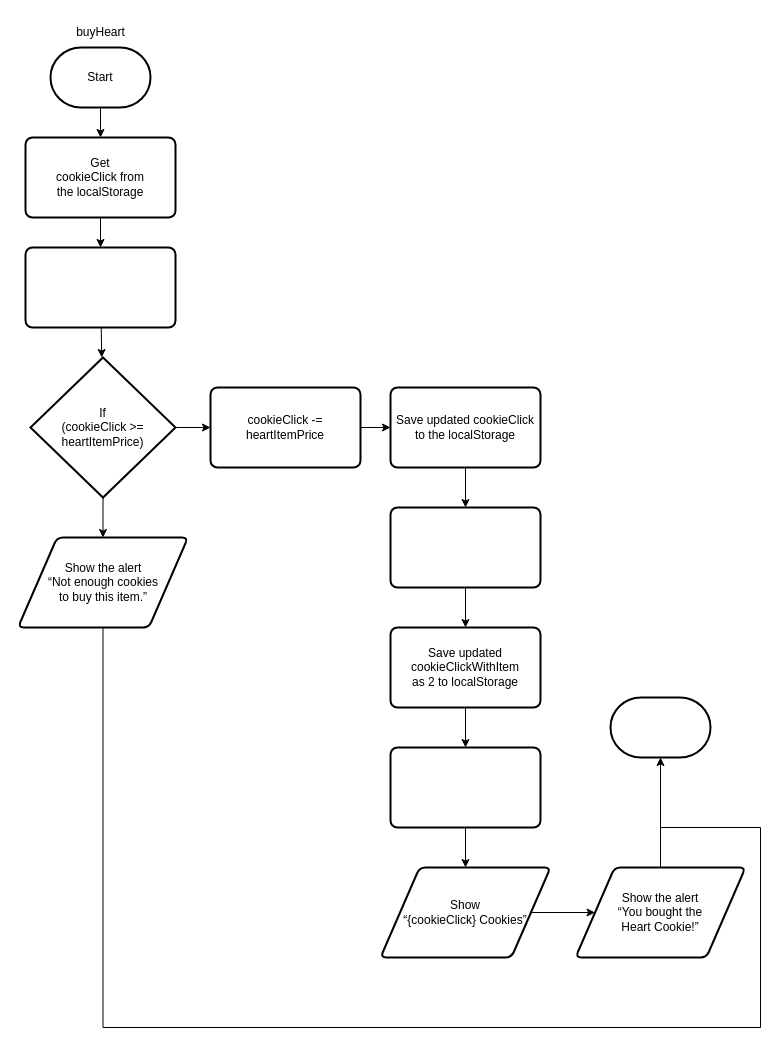
Image size: 779x1046. Some labels were removed from this diagram. The shapes that lost their labels are listed below. From the top down, each one's centre as x and y in pixels, then its label:
At point (100, 287): "heartItemPrice = 100".
At point (465, 547): "Save updated boughtItem as a boughtHeart to localStorage".
At point (660, 727): "Stop".
At point (465, 787): "Save updated heart-cookie as a boughtItem to localStorage".
